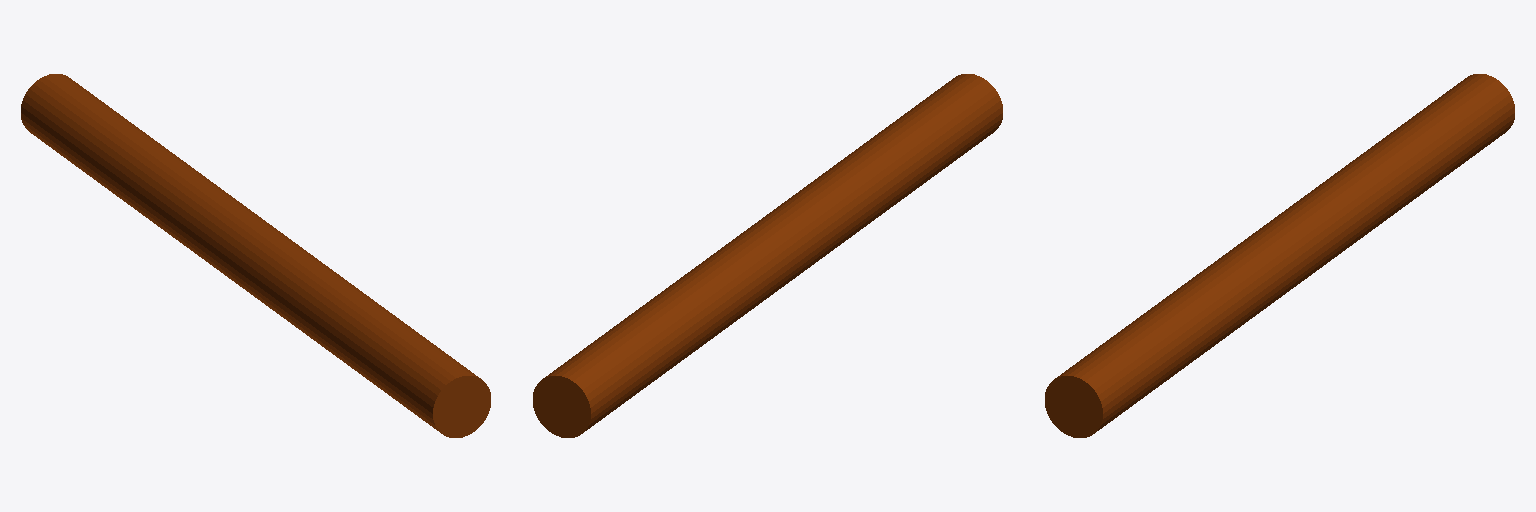
The robot description file, URDF, robot "cylinder":
<?xml version="1.0" ?>
<!-- =================================================================================== -->
<!-- |    This document was autogenerated by xacro from cylinder.xacro                 | -->
<!-- |    EDITING THIS FILE BY HAND IS NOT RECOMMENDED                                 | -->
<!-- =================================================================================== -->
<robot name="cylinder">
  <link name="world"/>
  <link name="base">
    <visual>
      <origin rpy="1.57079633 0 0" xyz="0 0 0"/>
      <geometry>
        <cylinder length="7.07106781185" radius="0.29"/>
      </geometry>
      <material name="cylinder_material">
        <color rgba="0.545 0.271 0.075 1.0"/>
        <texture filename="../textures/tree_bark.jpg"/>
      </material>
    </visual>
    <collision>
      <origin rpy="1.57079633 0 0" xyz="0 0 0"/>
      <geometry>
        <cylinder length="7.07106781185" radius="0.29"/>
      </geometry>
    </collision>
    <inertial>
      <origin rpy="0 0 0" xyz="0 0 0"/>
      <mass value="1"/>
      <inertia ixx="4.187691666648428" ixy="0.0" ixz="0.0" iyy="4.187691666648428" iyz="0.0" izz="24.999999999890573"/>
    </inertial>
  </link>
  <joint name="base_joint" type="fixed">
    <parent link="world"/>
    <child link="base"/>
    <origin rpy="0 0 0" xyz="0.0 0.0 0.0"/>
  </joint>
</robot>

--- Facts derived from the render (not from the file) ---
Views: 3 orthographic renders of the robot side by side, from view 1: azimuth 30°, elevation 25°; view 2: azimuth 150°, elevation 25°; view 3: azimuth 330°, elevation 25°.
Model cylinder with 2 links and 1 joints (1 fixed), rooted at world, posed all joints at 0.
Visible links, largest first — view 1: base; view 2: base; view 3: base.
Link boxes in pixels (left/top/right/bottom): base: left=21, top=74, right=490, bottom=437; base: left=533, top=74, right=1002, bottom=437; base: left=1045, top=74, right=1514, bottom=437.
Bounding box of the posed robot: 0.58 × 7.07 × 0.58 m (x, y, z).
Geometry: primitives only (box / cylinder / sphere), no mesh files.
